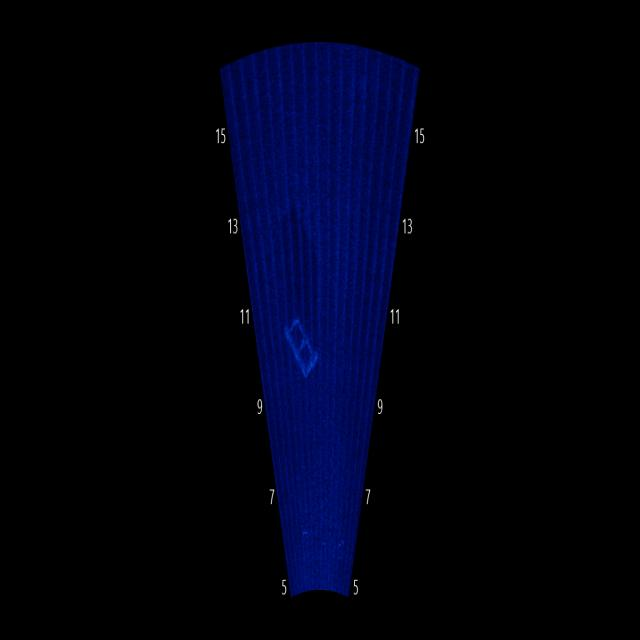square: (278, 299, 324, 378)
